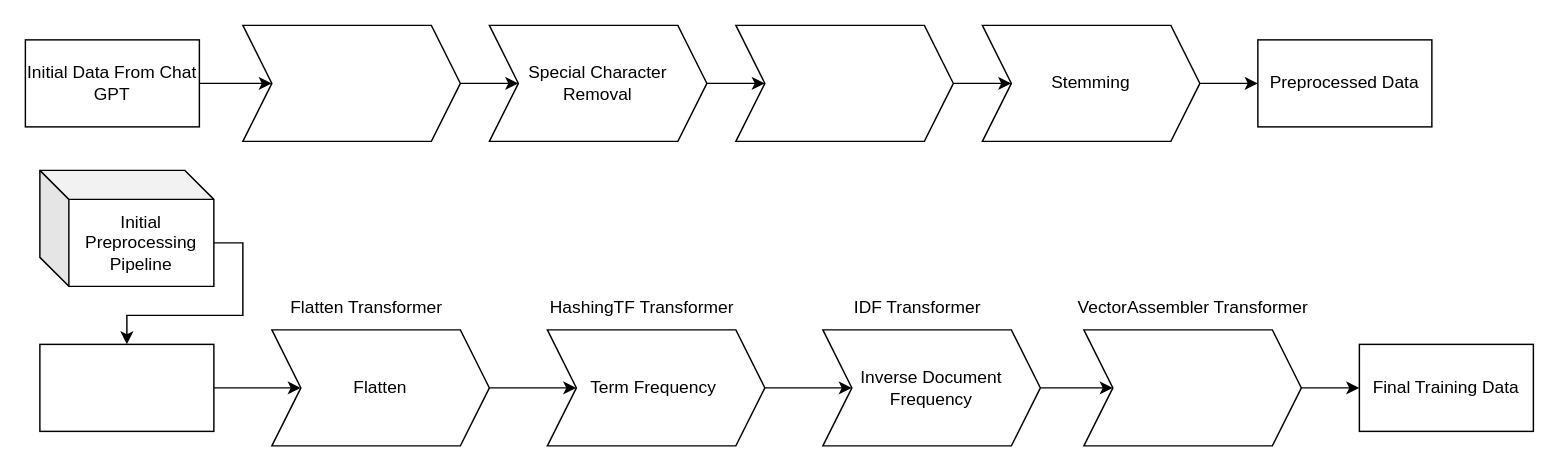
Some shapes in this 1559 by 471 pixel diagram are drawn without their labels. Each missing label, with the centre of its shape:
"Initally Preprocessed Data" goes at (126,387).
"Replace Numbers with 'X'" goes at (350,82).
"Tokenization" goes at (843,82).
"Vector Assembly" goes at (1191,387).
